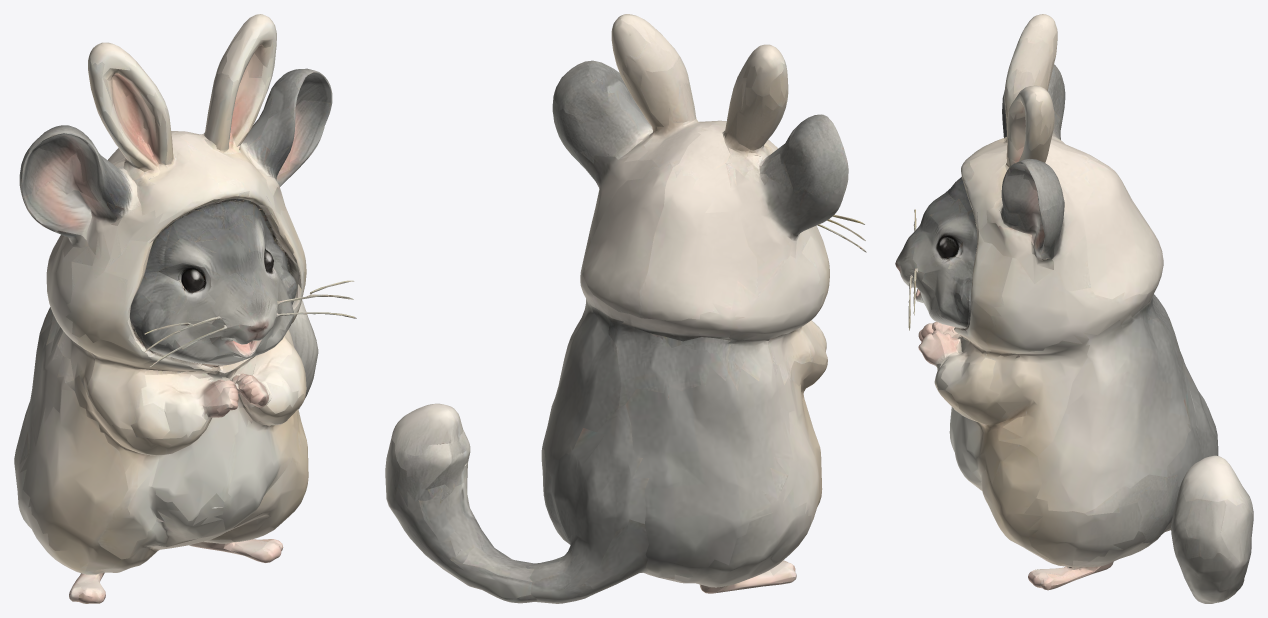
File: costume-rabbit_chinchilla-gray.glb
3 views of the same model, side by side, from view 1: azimuth 30°, elevation 25°; view 2: azimuth 150°, elevation 25°; view 3: azimuth 270°, elevation 25° (orthographic). The views are drawn at different scales.
Parts seen in each view (by area): view 1: Mesh_0; view 2: Mesh_0; view 3: Mesh_0.
Boxes of the visible parts, box(x1,y1,x2,y2) form: Mesh_0: box(14, 14, 356, 603); Mesh_0: box(385, 14, 866, 603); Mesh_0: box(895, 14, 1253, 603).
Size of the model in its own units: 1.39 by 1.9 by 1.23.
1 material, 1 textured.
